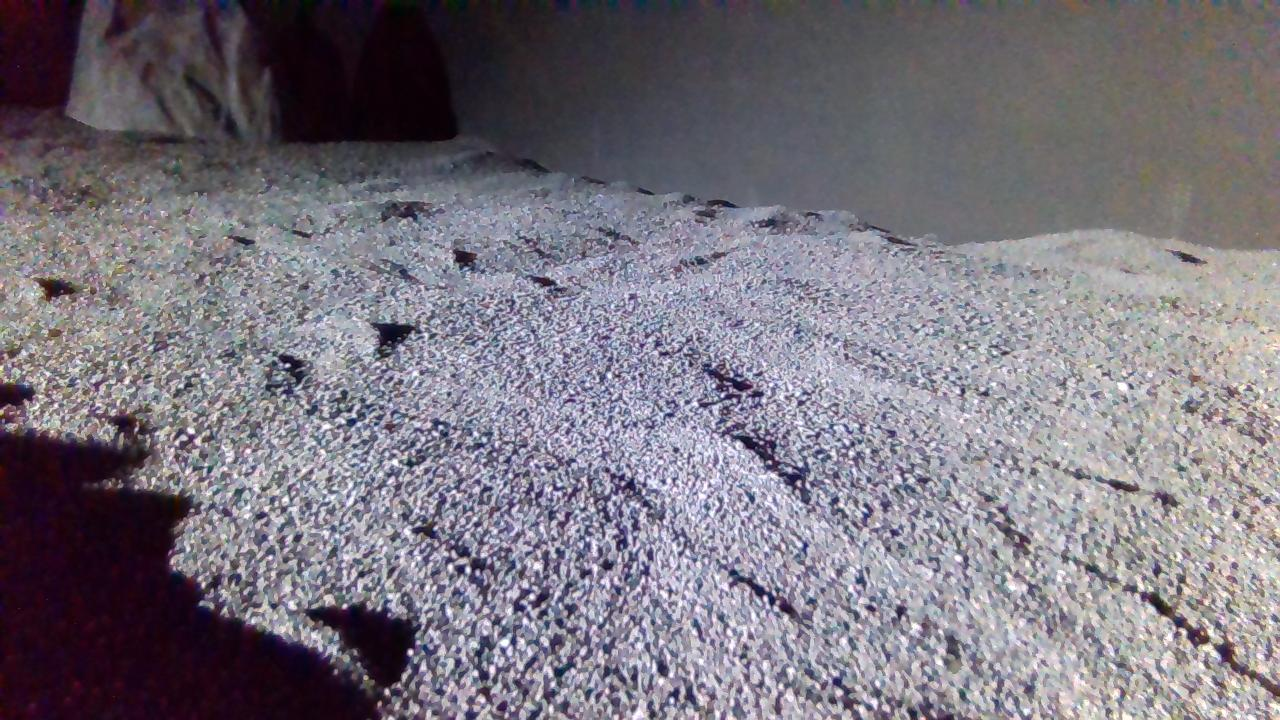rock: (65, 0, 274, 140)
